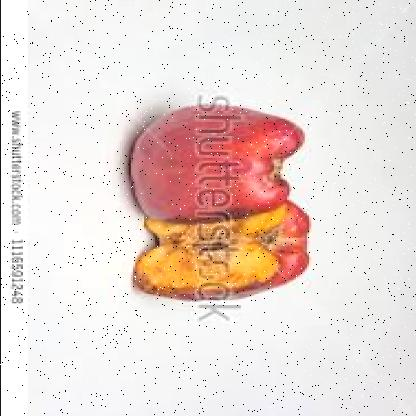damaged_apple: (137, 103, 297, 233), (128, 199, 310, 305)
